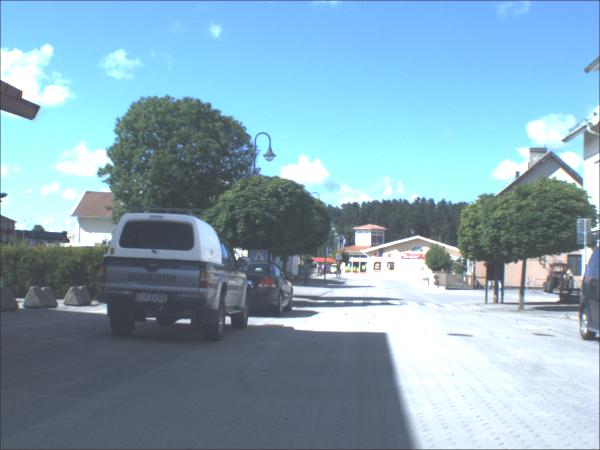NO_PARKING: (336, 254, 343, 262)
PEDESTRIAN_CROSSING: (249, 251, 269, 266)
